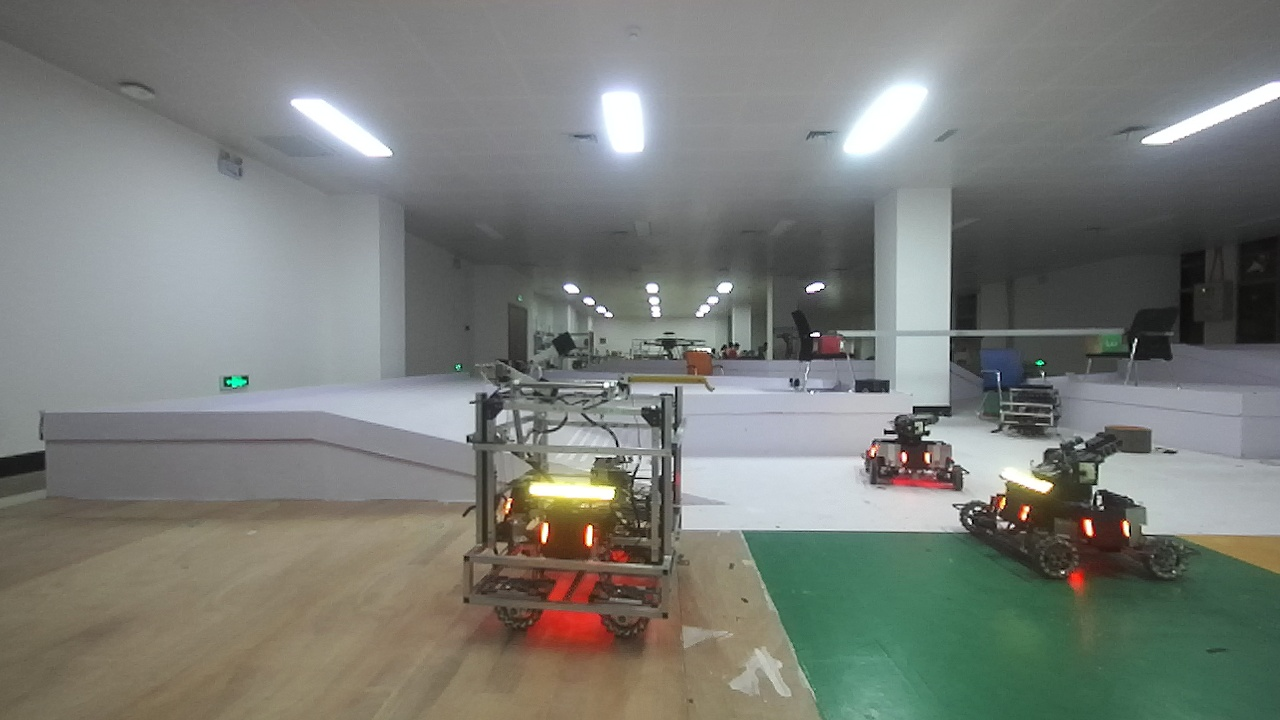car: (456, 358, 683, 649), (961, 444, 1193, 592), (858, 403, 963, 491)
